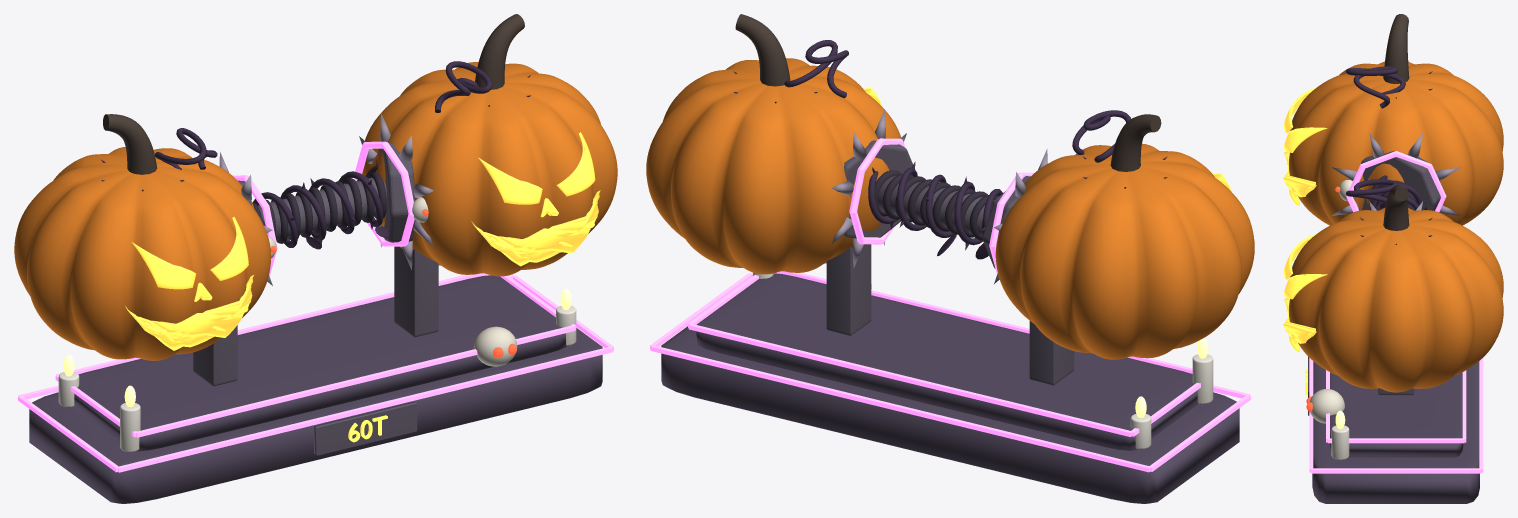
Rendered from dm_pumpkin60t.glb.
The picture shows the model from 3 angles, left to right: view 1: azimuth 30°, elevation 25°; view 2: azimuth 150°, elevation 25°; view 3: azimuth 270°, elevation 25°; orthographic projection. The views are drawn at different scales.
Visible parts, largest first — view 1: L_Pumpkin, Stand_Top, R_Pumpkin, Stand_Base, Stand_Post.001, Stand_Trim, L_Mouth, R_Mouth, Stand_Plate, Stand_Trim.004, Vine, Collar.001 (+15 smaller); view 2: L_Pumpkin, R_Pumpkin, Stand_Top, Stand_Base, Stand_Post.001, Stand_Trim.001, Stand_Trim.005, Vine, R_Stem, Stand_Post, L_Stem, Collar.001 (+10 smaller); view 3: R_Pumpkin, L_Pumpkin, Stand_Base, Stand_Top, Collar, L_Stem, Stand_Trim.003, R_Stem, CollarTrim, L_Tendril, Stand_Skull, R_Tendril (+12 smaller).
Boxes of the visible parts, box(x1,y1,x2,y2) form: L_Pumpkin: box(14, 147, 271, 360); Stand_Top: box(72, 275, 566, 451); R_Pumpkin: box(362, 62, 617, 276); Stand_Base: box(29, 328, 602, 503); Stand_Post.001: box(394, 246, 438, 337); Stand_Trim: box(118, 346, 613, 472); L_Mouth: box(125, 275, 253, 350); R_Mouth: box(471, 190, 600, 266); Stand_Plate: box(314, 402, 417, 455); Stand_Trim.004: box(136, 325, 575, 437); Vine: box(253, 165, 383, 247); Collar.001: box(378, 142, 415, 242); L_Pumpkin: box(995, 143, 1254, 359); R_Pumpkin: box(646, 58, 900, 274); Stand_Top: box(696, 273, 1198, 450); Stand_Base: box(661, 326, 1239, 503); Stand_Post.001: box(826, 244, 871, 335); Stand_Trim.001: box(650, 345, 1150, 472); Stand_Trim.005: box(688, 323, 1131, 436); Vine: box(868, 167, 1002, 245); R_Stem: box(735, 14, 790, 86); Stand_Post: box(1029, 321, 1074, 385); L_Stem: box(1110, 114, 1161, 171); Collar.001: box(844, 140, 912, 238); R_Pumpkin: box(1289, 208, 1503, 392); L_Pumpkin: box(1289, 61, 1503, 225); Stand_Base: box(1312, 361, 1479, 503); Stand_Top: box(1329, 372, 1463, 457); Collar: box(1361, 151, 1440, 210); L_Stem: box(1383, 14, 1409, 83); Stand_Trim.003: box(1311, 468, 1481, 473); R_Stem: box(1383, 184, 1409, 230); CollarTrim: box(1346, 151, 1446, 212); L_Tendril: box(1346, 66, 1405, 108); Stand_Skull: box(1310, 389, 1344, 423); R_Tendril: box(1346, 179, 1397, 208).
Size of the model in its own units: 5.1 by 2.98 by 1.97.
